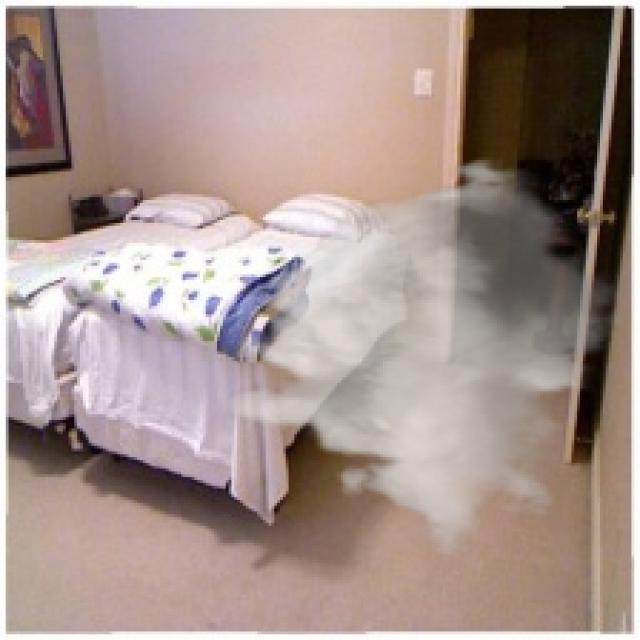smoke: (226, 154, 634, 557)
